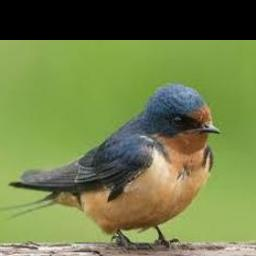Swallow: (0, 83, 221, 245)
